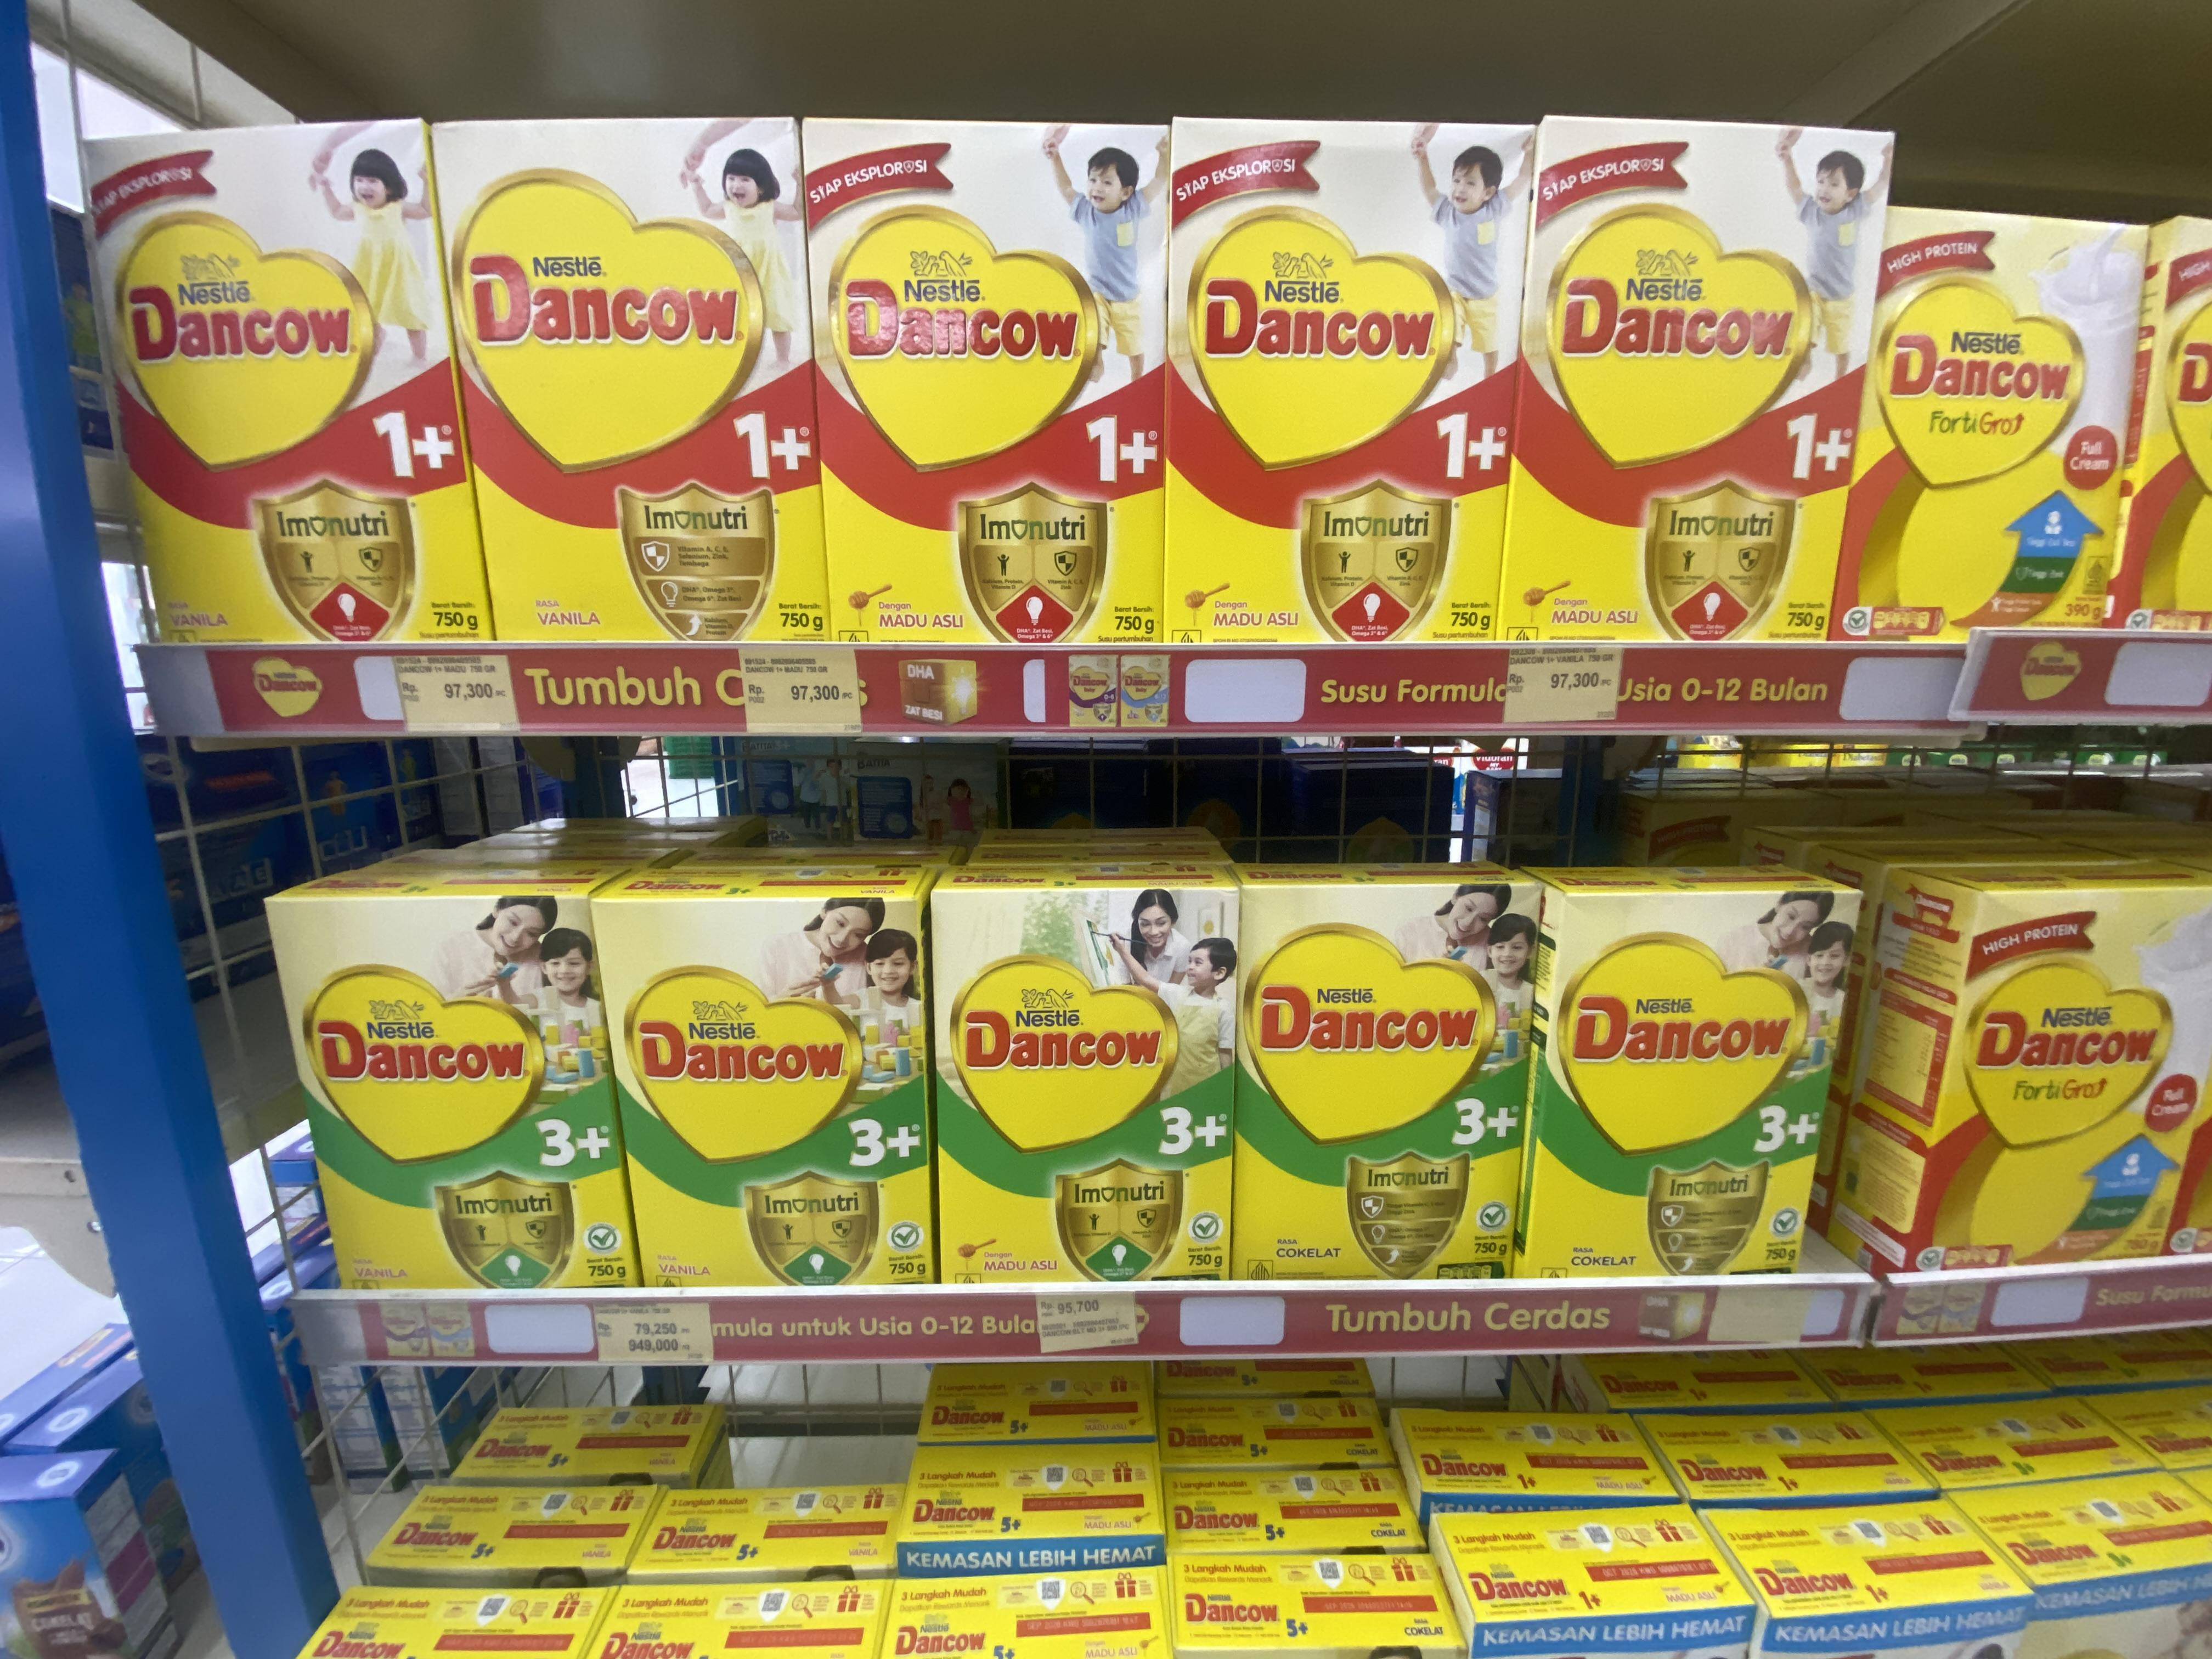DANCOW 1+ Madu Advn ExcNutr 24x400g N1 ID_REDESIGN3: (460, 115, 827, 641), (1514, 119, 1876, 640), (1165, 120, 1514, 636), (819, 122, 1167, 634)
DANCOW 1+ Van Advn ExcNutr 24x400g ID_REDESIGN3: (458, 113, 824, 638), (1170, 120, 1521, 641), (817, 119, 1167, 640)
DANCOW 3+ Van Advn ExcNutr 12x800g ID_REDESIGN3: (1235, 896, 1527, 1293), (1540, 892, 1820, 1281)
